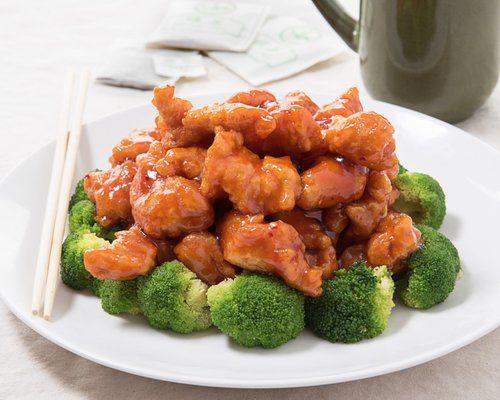curry: (304, 260, 396, 344), (208, 273, 306, 350), (60, 178, 111, 295), (398, 225, 463, 310)
pizza: (355, 0, 500, 124)
